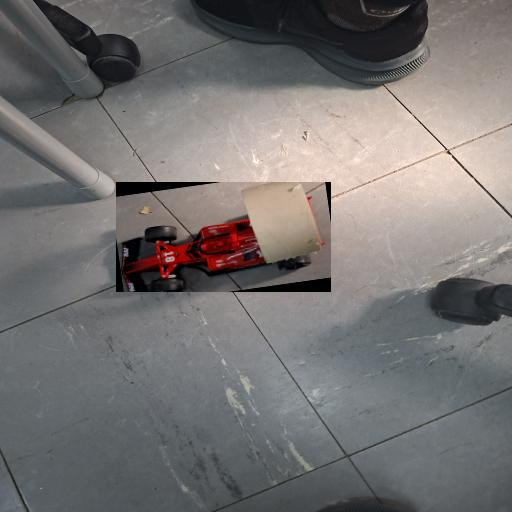carro: (116, 182, 331, 292)
